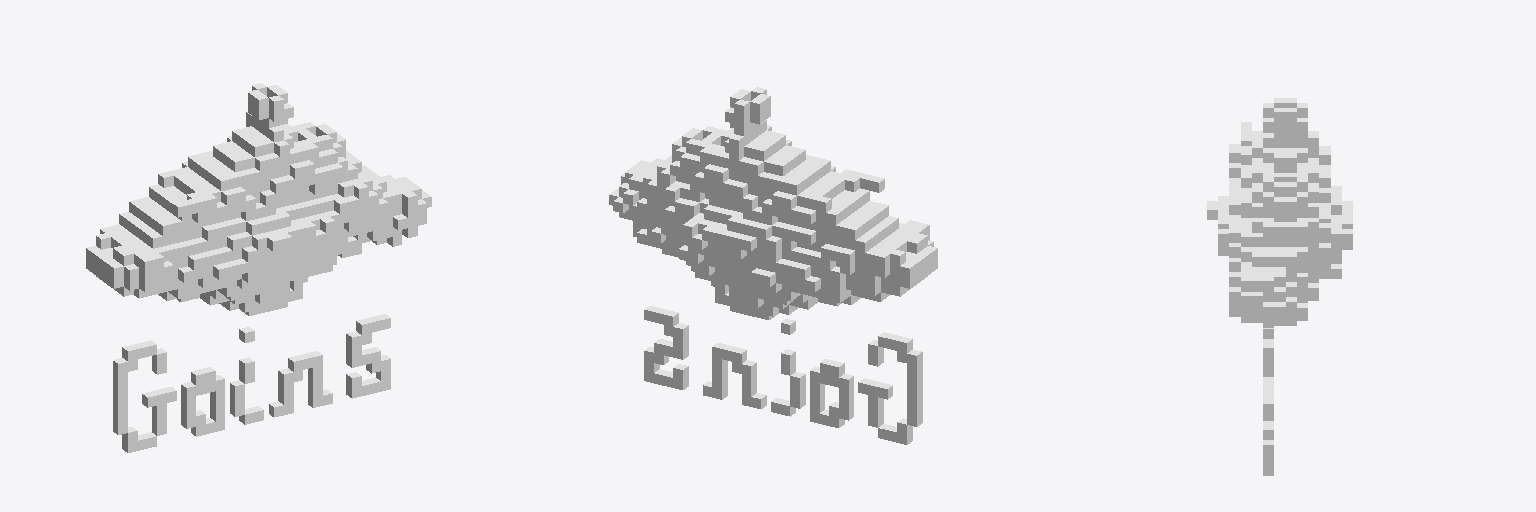
File: knee_surgury.obj
The picture shows the model from 3 angles: view 1: azimuth 30°, elevation 25°; view 2: azimuth 150°, elevation 25°; view 3: azimuth 270°, elevation 25°; orthographic projection.
Visible parts, largest first — view 1: object 1; view 2: object 1; view 3: object 1.
Boxes of the visible parts, x1=… form: object 1: x1=86, y1=83, x2=431, y2=452; object 1: x1=609, y1=87, x2=937, y2=444; object 1: x1=1207, y1=98, x2=1352, y2=475.
Size of the model in its own units: 3.2 by 3.1 by 1.3.